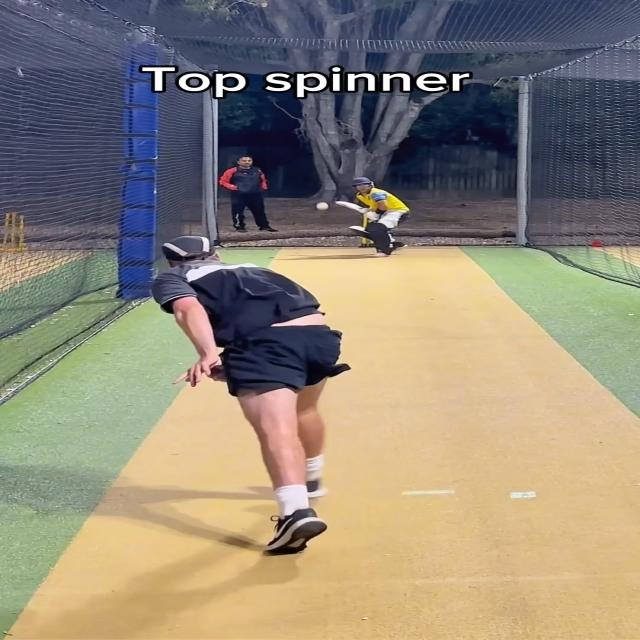Cricket ball: (316, 202, 329, 210)
